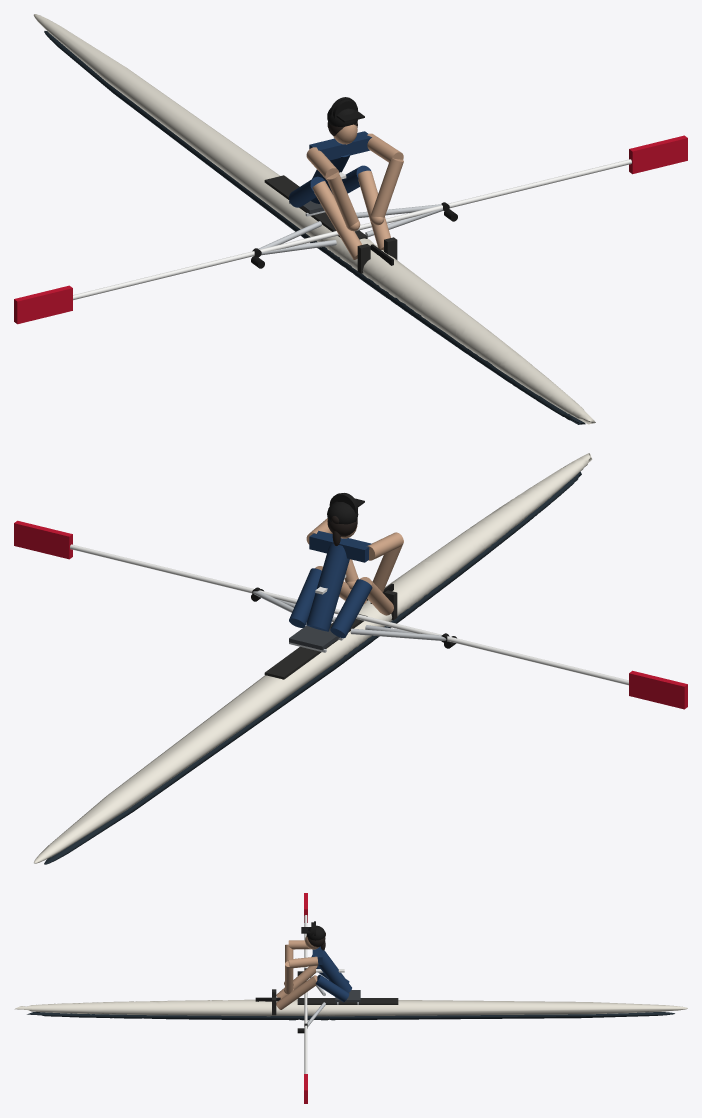
Rendered from scull-male.glb.
The picture shows the model from 3 angles, top to bottom: view 1: azimuth 30°, elevation 25°; view 2: azimuth 150°, elevation 25°; view 3: azimuth 270°, elevation 25°; orthographic projection. The views are drawn at different scales.
Parts seen in each view (by area): view 1: Hull, Hull_Underside, LeftOar_Blade, RightOar_Blade, LeftOar_Shaft, RightOar_Shaft, LeftShin, RightShin, Torso_Shoulders, RightArm_Fore, LeftArm_Fore, Cockpit; view 2: Hull, Hull_Underside, Torso_Spine, LeftOar_Blade, RightOar_Blade, LeftOar_Shaft, RightOar_Shaft, LeftThigh, Torso_Shoulders, Cockpit, RightThigh, Seat_Pan; view 3: Hull, Hull_Underside, Cockpit, Torso_Spine, RightShin, RightThigh.
Part boxes in pixels (x1=…): Hull: x1=33, y1=14, x2=595, y2=424; Hull_Underside: x1=44, y1=31, x2=585, y2=424; LeftOar_Blade: x1=14, y1=285, x2=72, y2=324; RightOar_Blade: x1=629, y1=135, x2=687, y2=174; LeftOar_Shaft: x1=73, y1=225, x2=361, y2=300; RightOar_Shaft: x1=357, y1=159, x2=631, y2=230; LeftShin: x1=312, y1=181, x2=362, y2=259; RightShin: x1=358, y1=170, x2=390, y2=250; Torso_Shoulders: x1=309, y1=131, x2=371, y2=160; RightArm_Fore: x1=371, y1=158, x2=403, y2=217; LeftArm_Fore: x1=326, y1=172, x2=358, y2=227; Cockpit: x1=264, y1=175, x2=367, y2=239; Hull: x1=34, y1=453, x2=592, y2=863; Hull_Underside: x1=44, y1=471, x2=581, y2=864; Torso_Spine: x1=306, y1=543, x2=349, y2=631; LeftOar_Blade: x1=629, y1=670, x2=687, y2=709; RightOar_Blade: x1=14, y1=520, x2=72, y2=559; LeftOar_Shaft: x1=356, y1=614, x2=628, y2=685; RightOar_Shaft: x1=70, y1=544, x2=360, y2=617; LeftThigh: x1=330, y1=579, x2=372, y2=638; Torso_Shoulders: x1=309, y1=530, x2=371, y2=562; Cockpit: x1=264, y1=614, x2=367, y2=679; RightThigh: x1=289, y1=568, x2=321, y2=627; Seat_Pan: x1=289, y1=625, x2=339, y2=650; Hull: x1=14, y1=999, x2=687, y2=1016; Hull_Underside: x1=27, y1=1012, x2=674, y2=1020; Cockpit: x1=297, y1=998, x2=398, y2=1004; Torso_Spine: x1=311, y1=950, x2=351, y2=992; RightShin: x1=276, y1=975, x2=317, y2=1009; RightThigh: x1=315, y1=974, x2=349, y2=1002.
Size of the model in its own units: 5.56 by 1.26 by 8.03.
